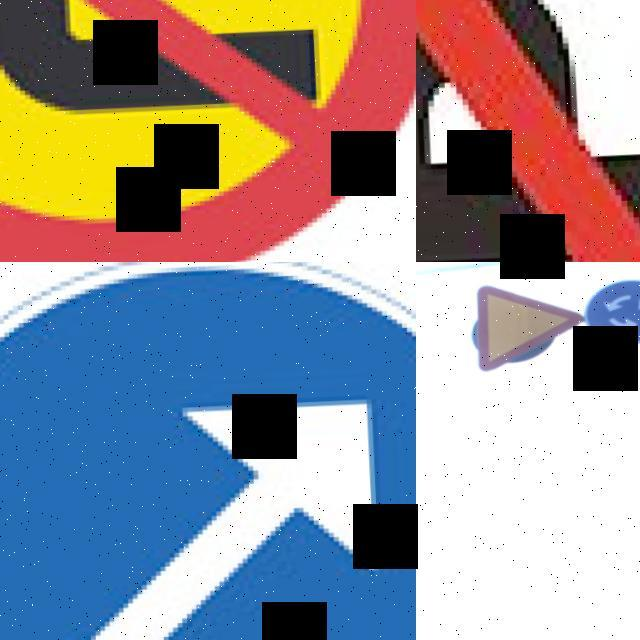16: (580, 276, 640, 348)
174: (471, 278, 589, 374)
36: (0, 0, 416, 262)
93: (0, 262, 416, 640)
No parking: (416, 0, 640, 262)
